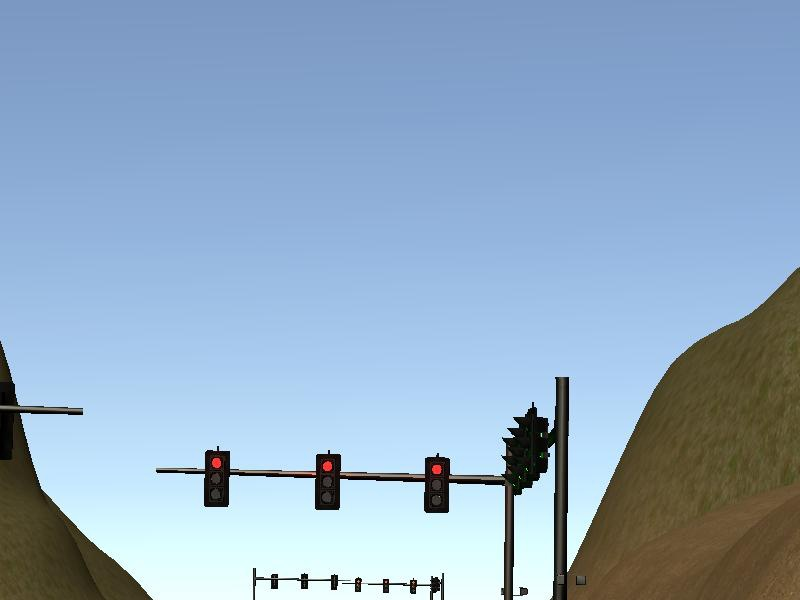Red: (202, 447, 232, 511), (312, 449, 342, 513), (421, 454, 451, 518)
